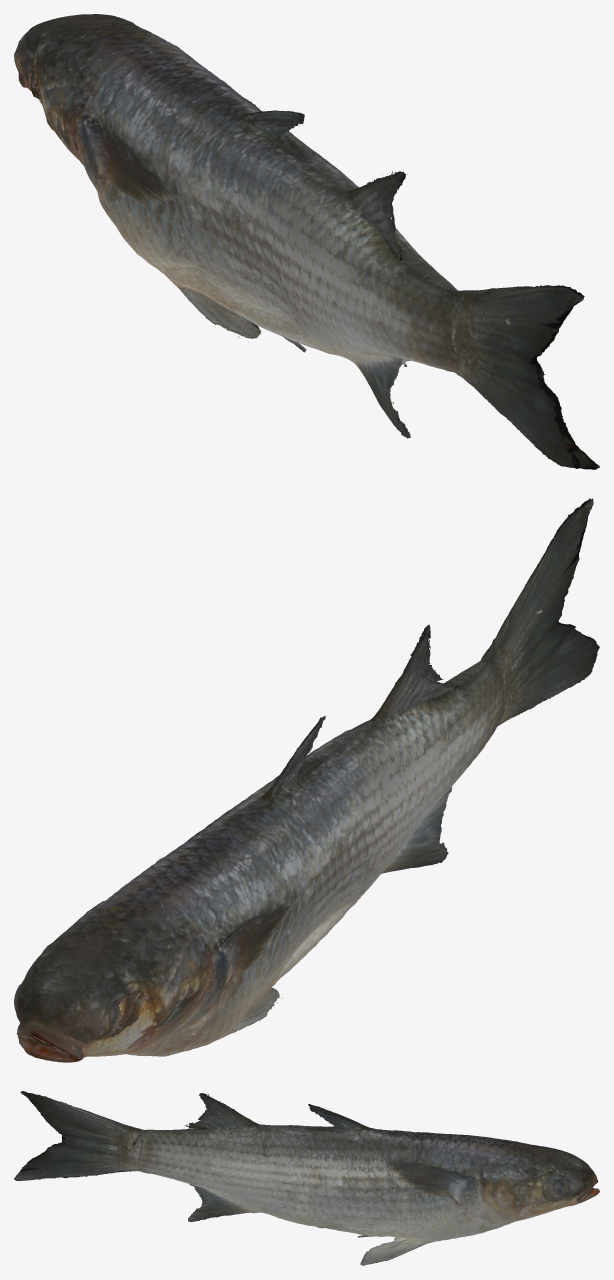
File: mugil_cephalus.glb
3 renders of one model, top to bottom at view 1: azimuth 30°, elevation 25°; view 2: azimuth 150°, elevation 25°; view 3: azimuth 270°, elevation 25°, orthographic. The views are drawn at different scales.
Visible parts, largest first — view 1: Object_4, Object_6, Object_2, Object_3, Object_5, Object_7; view 2: Object_4, Object_3, Object_6, Object_2, Object_5, Object_7; view 3: Object_3, Object_5, Object_6, Object_4, Object_2, Object_7.
Part boxes in pixels (x1,y1,x2,y2): Object_4: [37, 74, 330, 347]; Object_6: [48, 84, 584, 468]; Object_2: [14, 30, 599, 469]; Object_3: [17, 14, 358, 215]; Object_5: [129, 87, 594, 462]; Object_7: [14, 30, 549, 358]; Object_4: [94, 765, 419, 1056]; Object_3: [14, 763, 332, 1029]; Object_6: [16, 498, 598, 1062]; Object_2: [28, 498, 599, 1059]; Object_5: [157, 552, 567, 1056]; Object_7: [14, 558, 572, 1062]; Object_3: [233, 1117, 596, 1239]; Object_5: [15, 1104, 478, 1265]; Object_6: [20, 1091, 599, 1264]; Object_4: [228, 1134, 521, 1244]; Object_2: [14, 1091, 576, 1241]; Object_7: [76, 1107, 593, 1229].
Size of the model in its own units: 42.27 by 91.02 by 302.
Materials: 1 (1 with a texture image).
